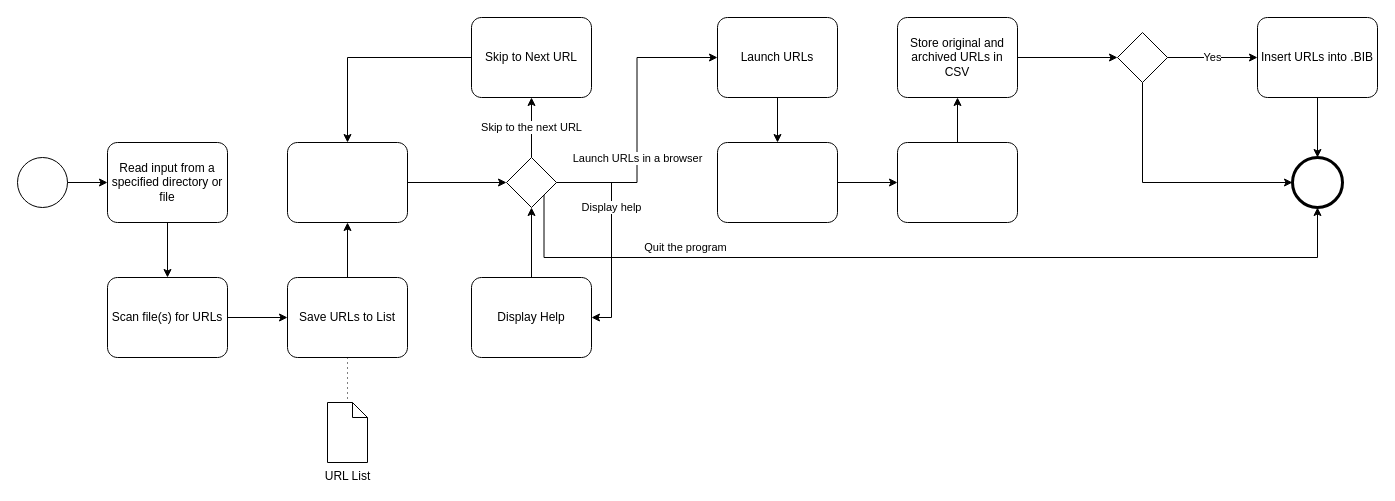
This 1395x501 diagram has some shape labels left out. Here are the shapes that lost their labels. From the top down, the box of each, then its label:
(1116, 32, 1168, 82): Insert into .BIB file?
(286, 142, 408, 222): Display URL to user
(716, 142, 838, 222): Post URLs to archive.ph
(896, 142, 1018, 222): Retrieve archived URLs.
